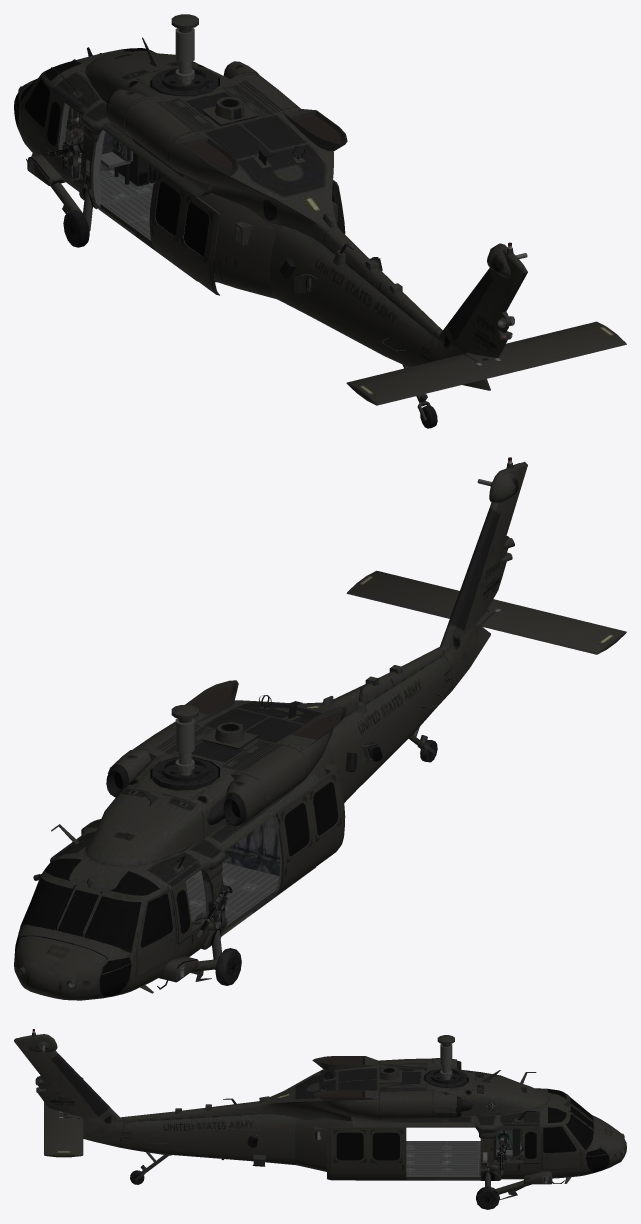
Rendered from heli_uh60.glb.
3 views of the same model, one above another, from view 1: azimuth 30°, elevation 25°; view 2: azimuth 150°, elevation 25°; view 3: azimuth 270°, elevation 25° (orthographic). The views are drawn at different scales.
Parts seen in each view (by area): view 1: heli_uh60; view 2: heli_uh60; view 3: heli_uh60.
Boxes of the visible parts, box(x1,y1,x2,y2) form: heli_uh60: box(14, 14, 626, 428); heli_uh60: box(14, 457, 626, 1000); heli_uh60: box(14, 1029, 626, 1209).
Bounding box in the file's own units: 4.53 × 4.22 × 15.04.
Materials: 1 (1 with a texture image).
